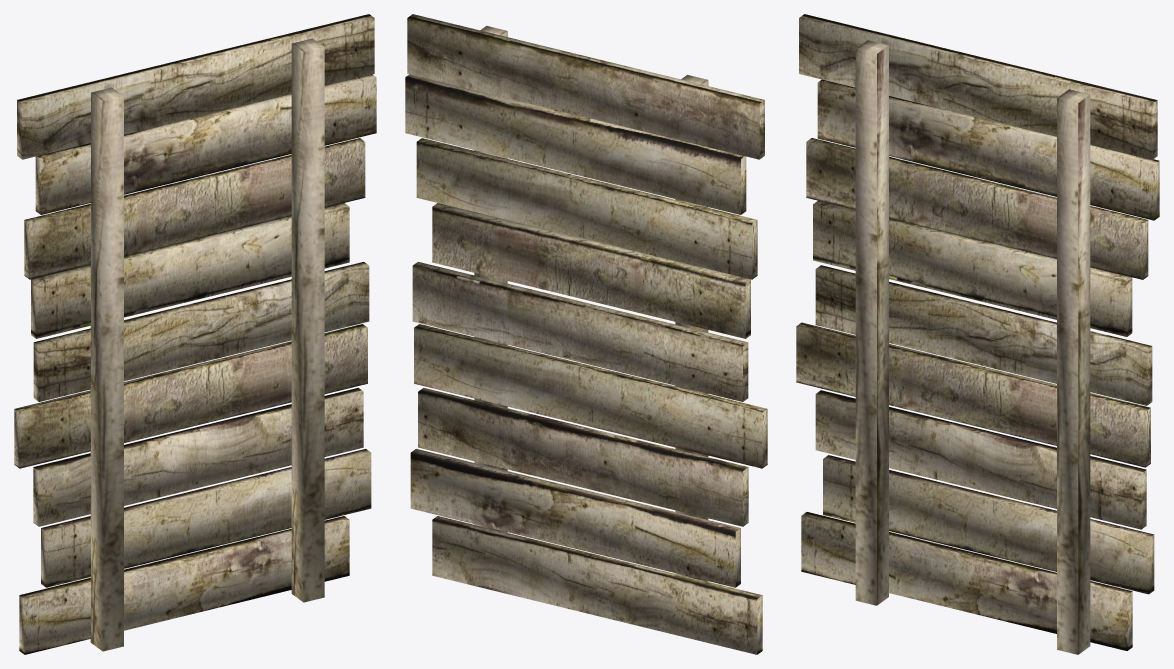
File: wood path beach.fbx
3 views of the same model, side by side, from view 1: azimuth 30°, elevation 25°; view 2: azimuth 150°, elevation 25°; view 3: azimuth 330°, elevation 25° (orthographic).
Visible parts, largest first — view 1: Cube; view 2: Cube; view 3: Cube.
Boxes of the visible parts, x1,y1,x2,y2 form: Cube: [14, 14, 376, 654]; Cube: [405, 14, 767, 654]; Cube: [796, 14, 1159, 654].
Size of the model in its own units: 2.13 by 3.17 by 0.179.
